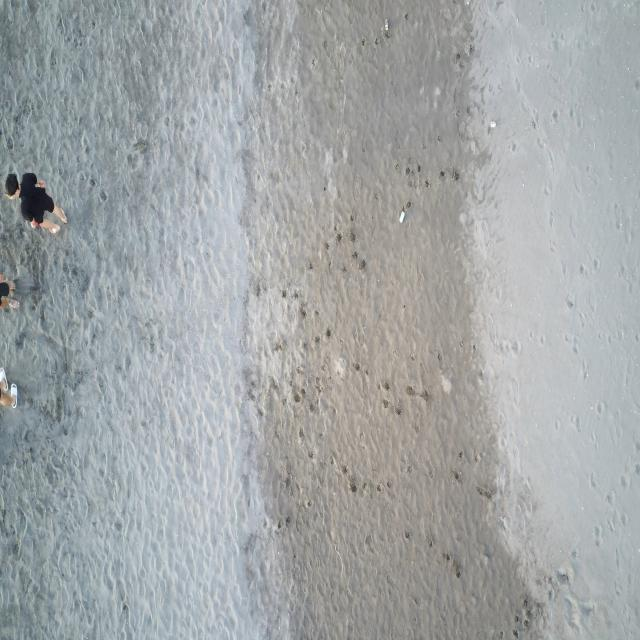Garbage: (399, 208, 404, 221), (384, 19, 387, 36), (488, 120, 495, 127)
